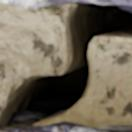brick: (0, 122, 131, 131), (0, 0, 77, 7), (82, 0, 131, 3)
crack: (0, 0, 131, 129)
